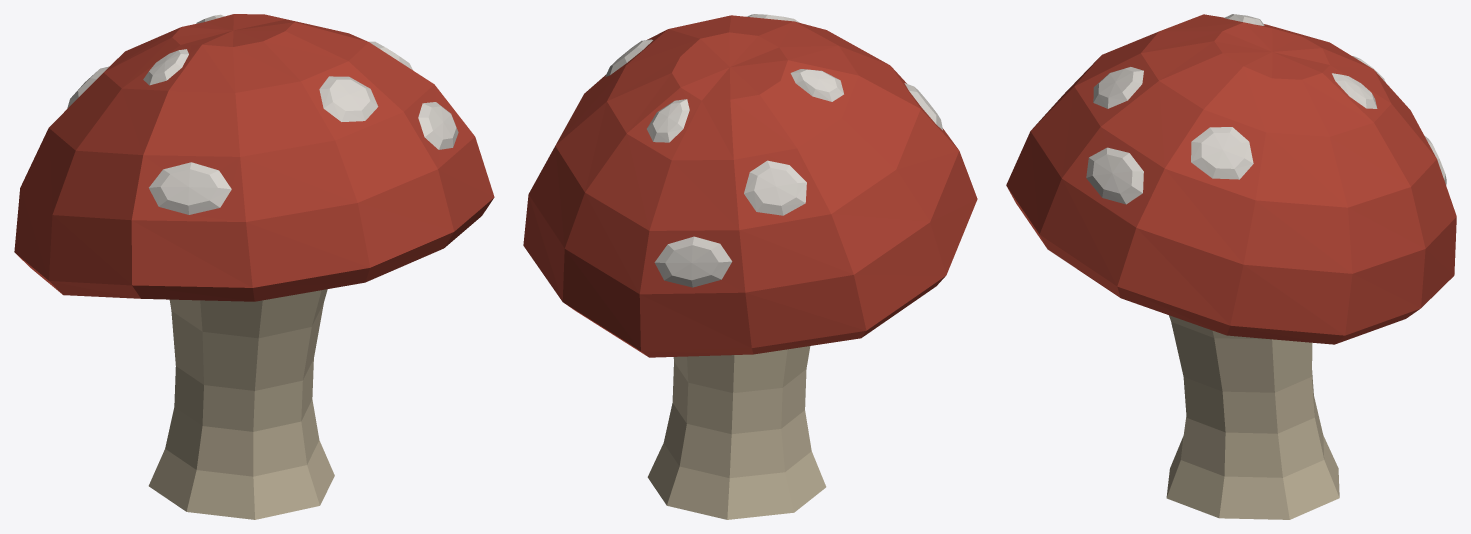
File: toadstool-257a4a.glb
3 renders of one model, left to right at view 1: azimuth 30°, elevation 25°; view 2: azimuth 150°, elevation 25°; view 3: azimuth 270°, elevation 25°, orthographic. The views are drawn at different scales.
Visible parts, largest first — view 1: toadstool-mesh; view 2: toadstool-mesh; view 3: toadstool-mesh.
Part boxes in pixels (x1=…): toadstool-mesh: x1=14, y1=14, x2=494, y2=519; toadstool-mesh: x1=523, y1=14, x2=977, y2=519; toadstool-mesh: x1=1006, y1=14, x2=1456, y2=519.
Bounding box in the file's own units: 0.3255 × 0.35 × 0.3231.
